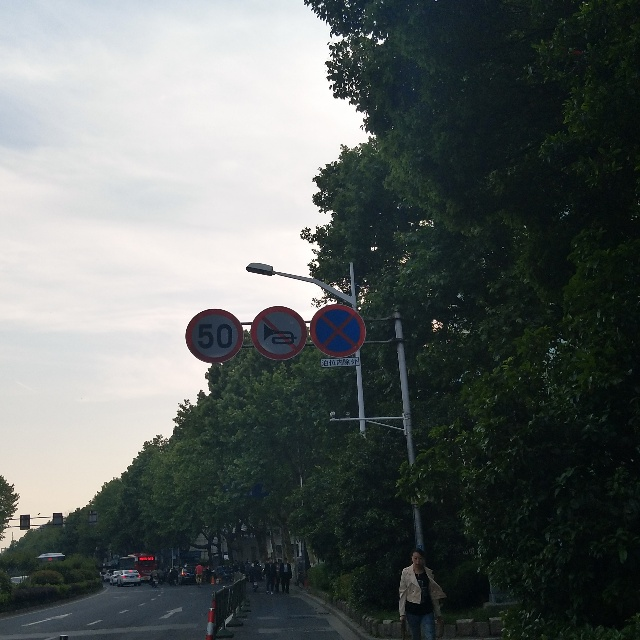nohonk: (247, 302, 307, 370)
stop: (306, 293, 369, 360)
